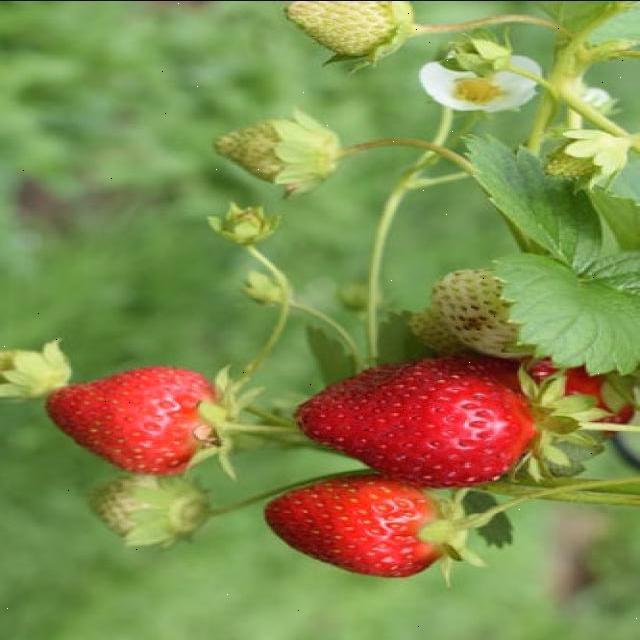ripe: (295, 349, 537, 487), (46, 362, 215, 476), (266, 472, 446, 576)
unripe: (433, 268, 536, 357), (215, 118, 342, 186), (85, 474, 204, 542), (286, 0, 416, 53)
